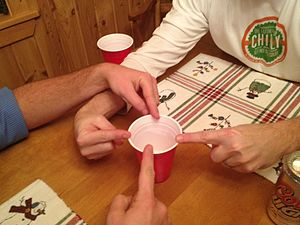finger: (174, 127, 241, 145), (136, 143, 156, 202), (139, 74, 161, 116), (77, 128, 135, 143), (79, 140, 114, 157), (207, 144, 230, 164), (223, 155, 241, 171)
